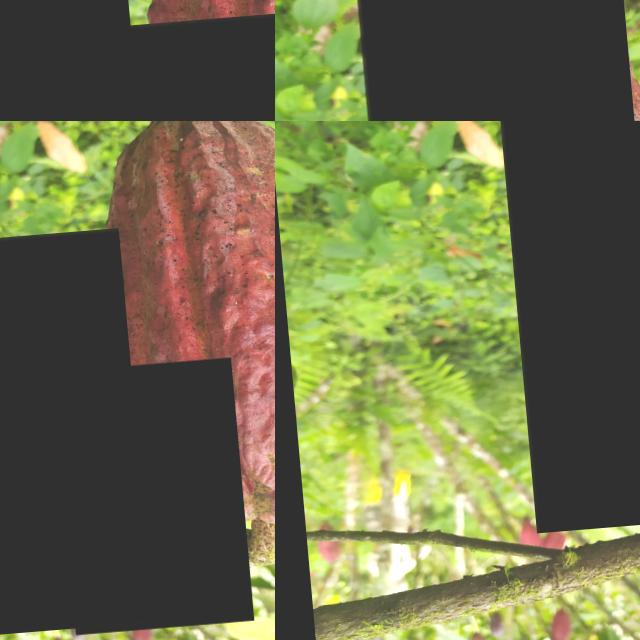Fitoftora: (0, 232, 142, 640), (47, 364, 243, 638)
Sana: (496, 121, 640, 537), (356, 0, 640, 121), (49, 17, 275, 121), (0, 0, 133, 121)
